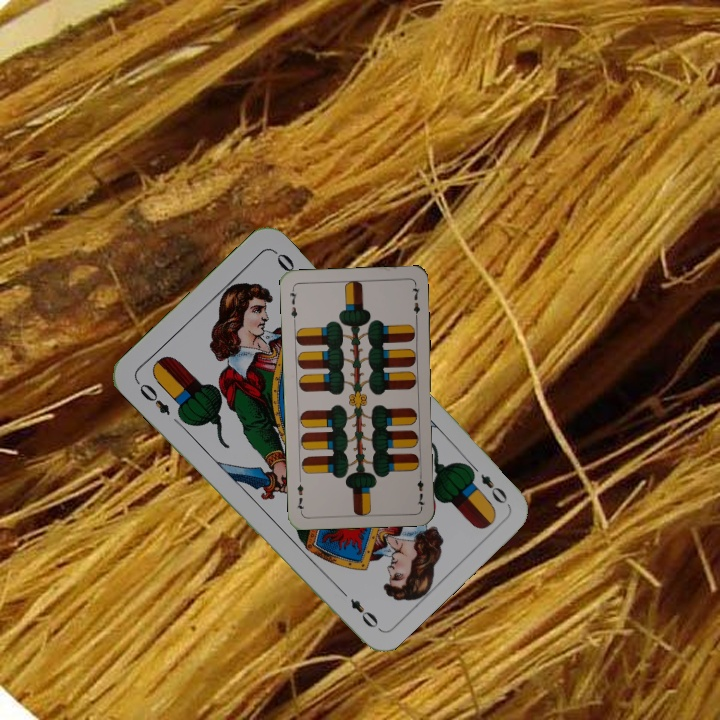E7: (286, 285, 300, 325), (413, 469, 427, 509)
EO: (464, 459, 511, 507), (132, 377, 173, 418)
